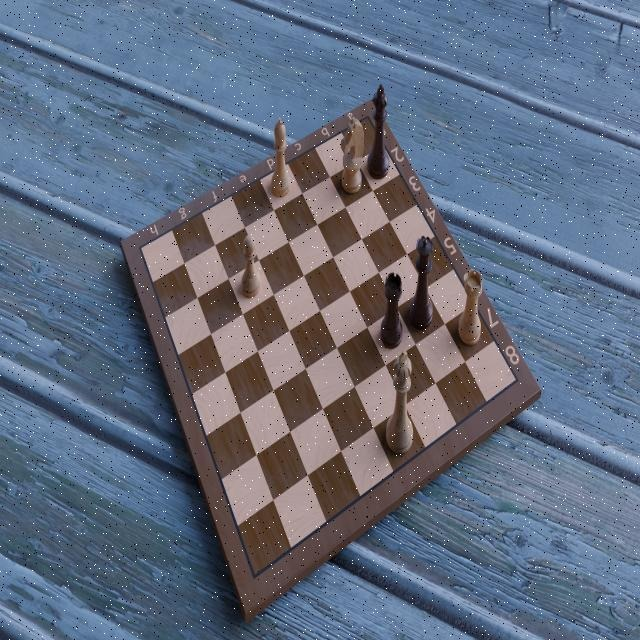black-king: (366, 81, 392, 183)
black-queen: (408, 237, 436, 336)
black-rook: (380, 268, 405, 352)
white-bishop: (268, 114, 293, 202)
white-king: (384, 347, 416, 459)
white-knight: (338, 116, 366, 200)
white-pawn: (239, 233, 264, 303)
white-rook: (456, 262, 484, 349)
